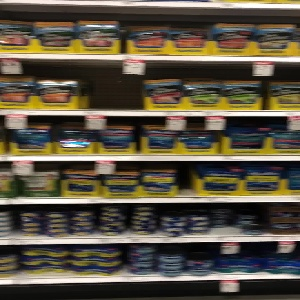void: (79, 64, 144, 110), (209, 203, 242, 237)
